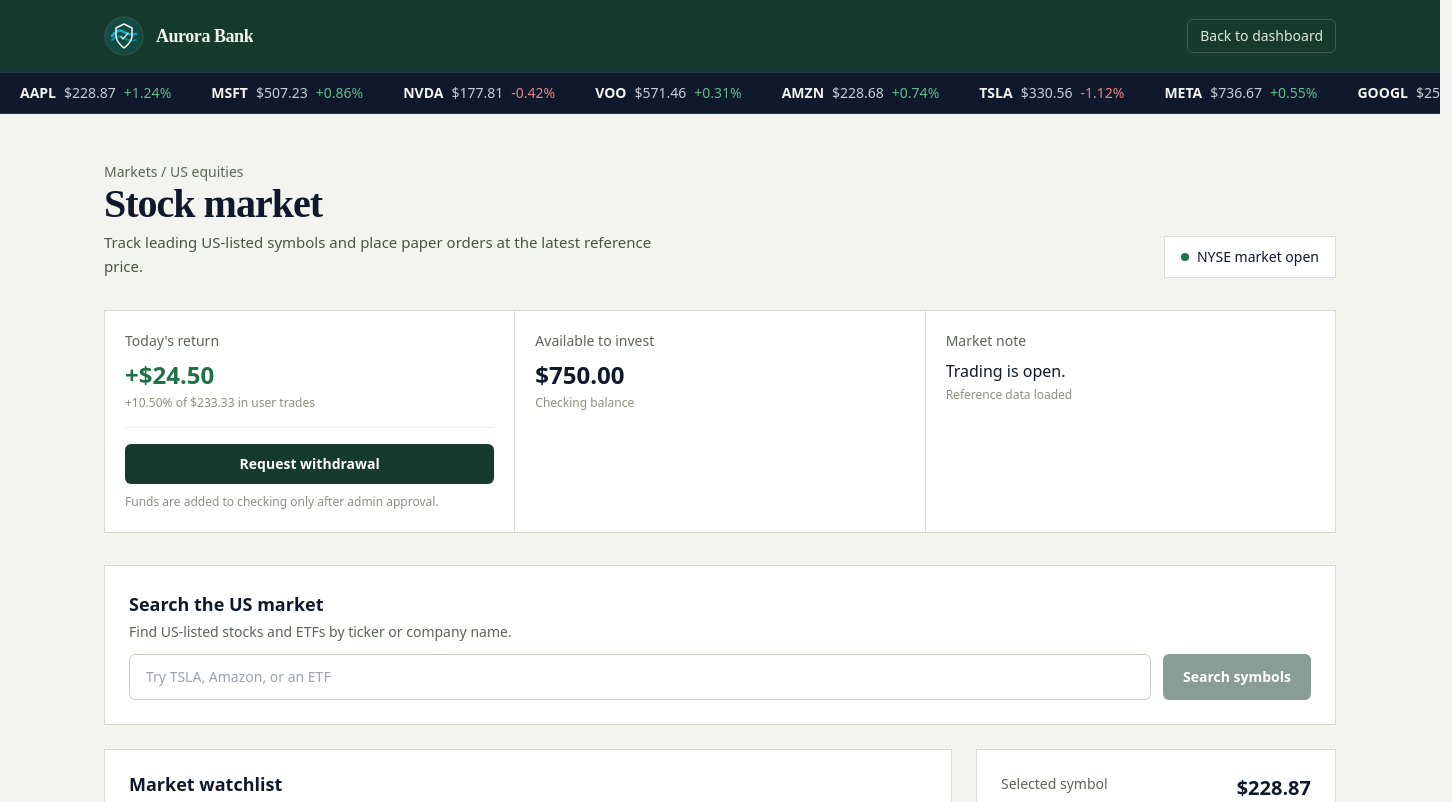
Test: StockMarketPage › requests admin approval before adding today’s return to checking
Click the button "Request withdrawal" at (310, 464), box [125,444,494,484]
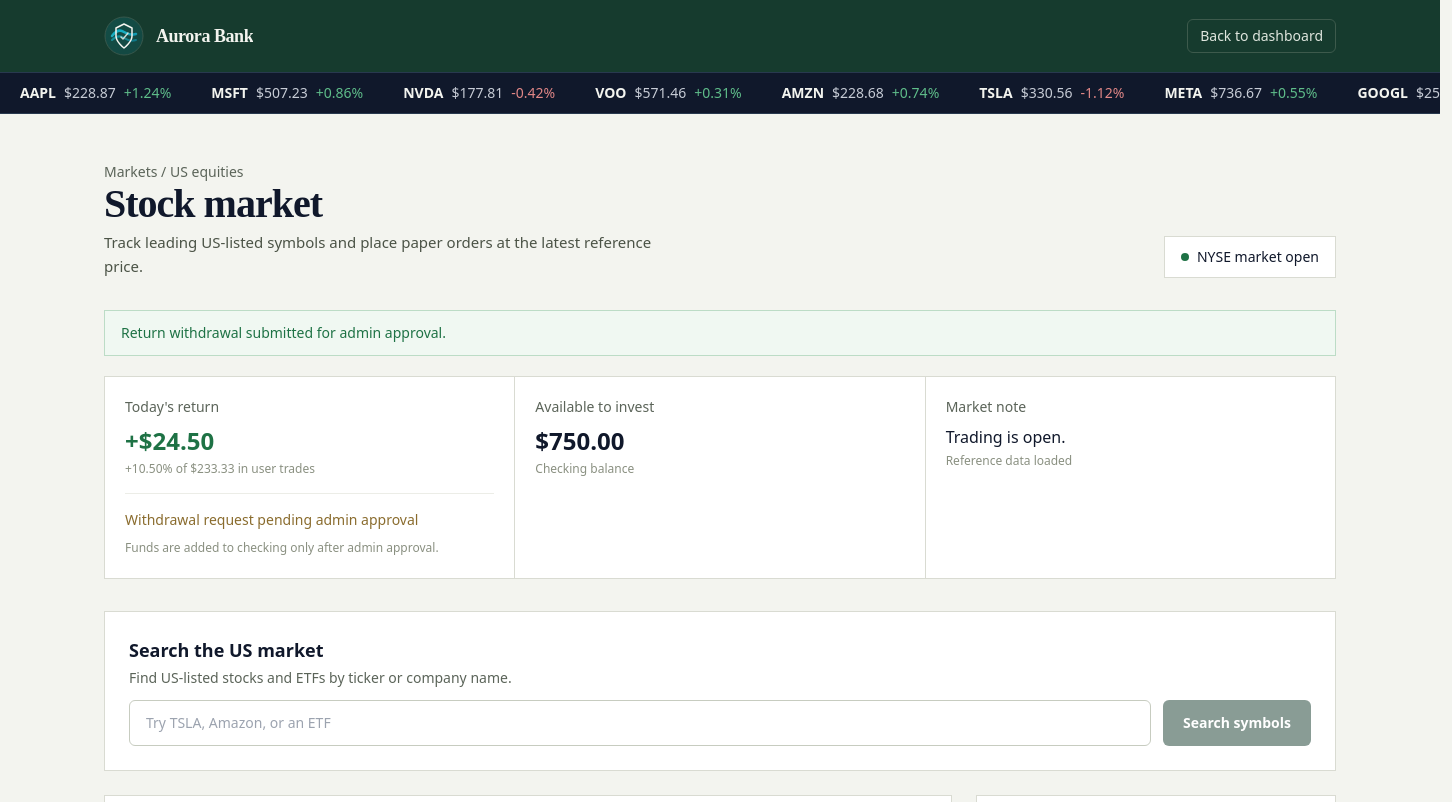
expect the text "$750.00" is shown: met, box [535,424,624,457]
expect the text "Withdrawal request pending admin approval" is shown: met, box [125,510,418,529]
